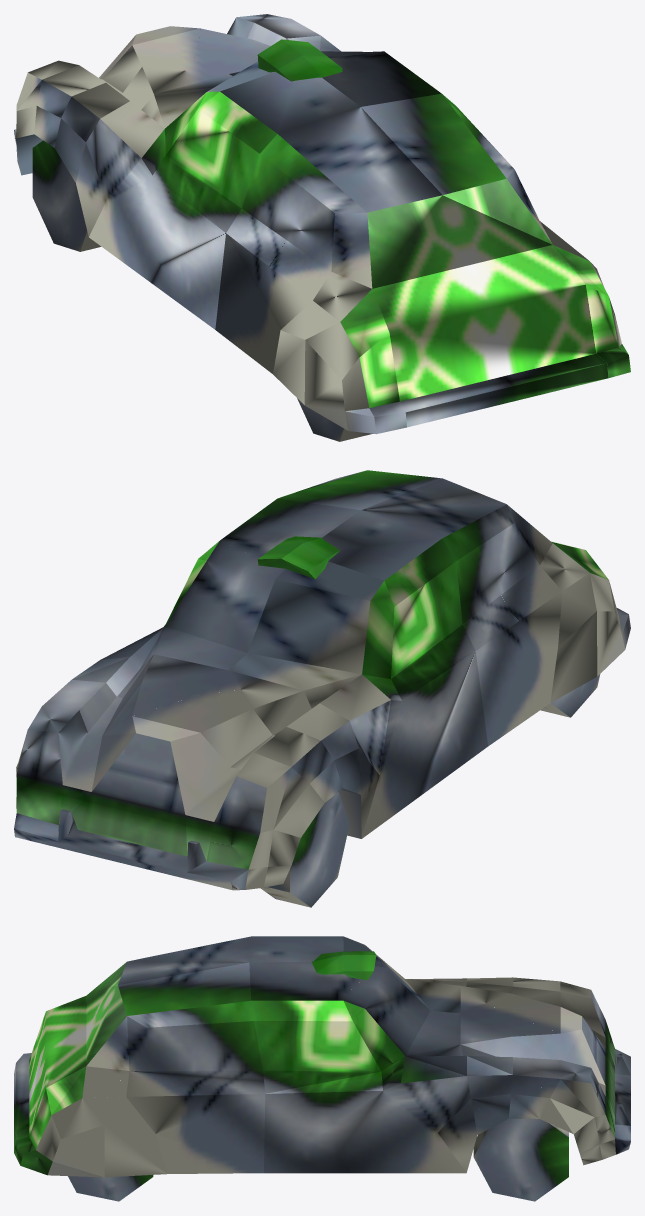
Rendered from icon.ico.obj.
3 views of the same model, one above another, from view 1: azimuth 30°, elevation 25°; view 2: azimuth 150°, elevation 25°; view 3: azimuth 270°, elevation 25° (orthographic). The views are drawn at different scales.
Size of the model in its own units: 2.15 by 1.72 by 4.9.
